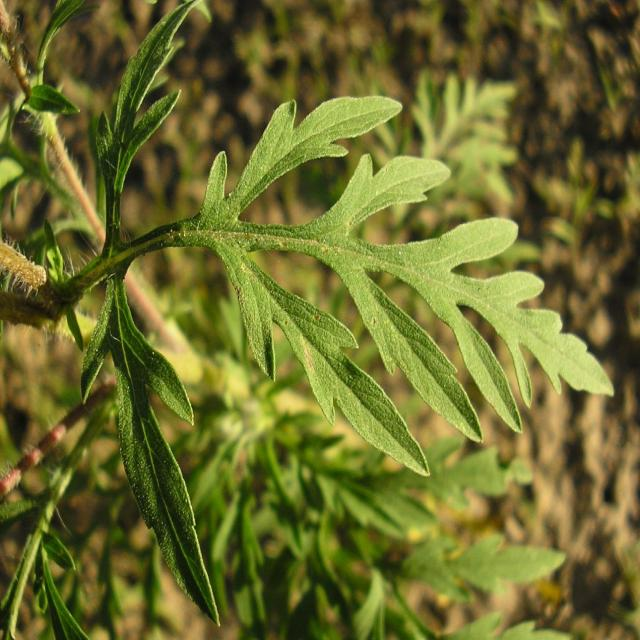ambrosia: (177, 107, 608, 488)
